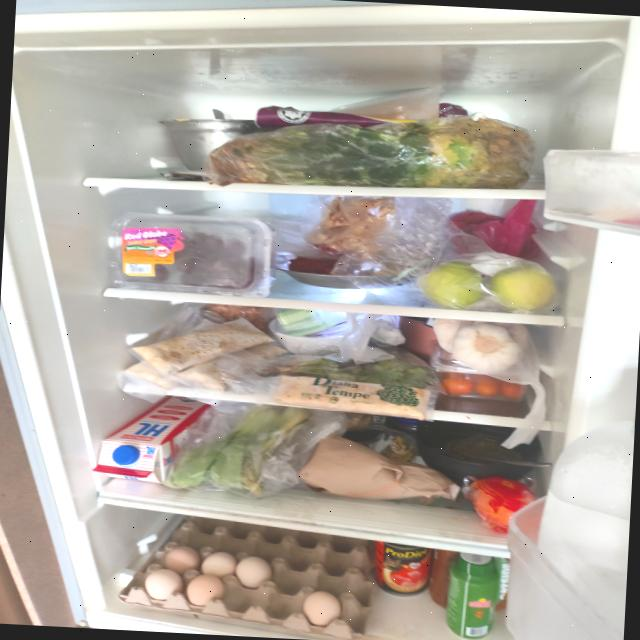apple: (419, 259, 486, 310), (488, 262, 556, 312)
egg: (118, 509, 377, 640)
garlic: (432, 318, 532, 378)
grape: (150, 230, 260, 290)
leafy_greens: (206, 104, 538, 200)
orange: (472, 477, 535, 533)
pakchoy: (168, 402, 310, 499)
tempeh: (123, 312, 290, 396), (276, 375, 432, 422)
